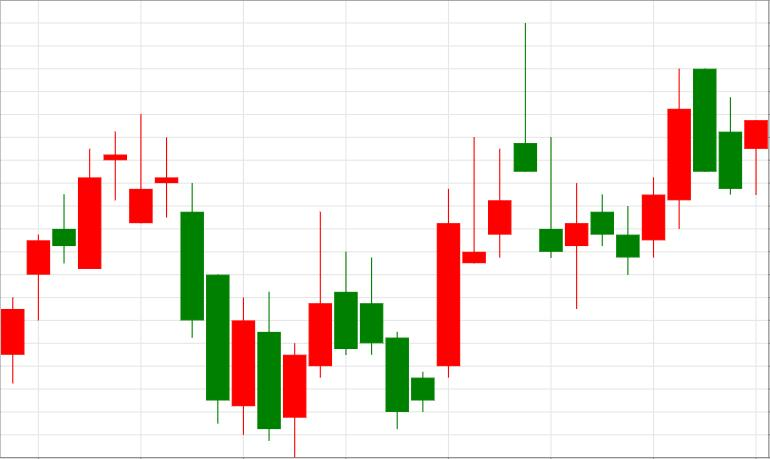shooting_star_fall: (436, 23, 537, 377)
